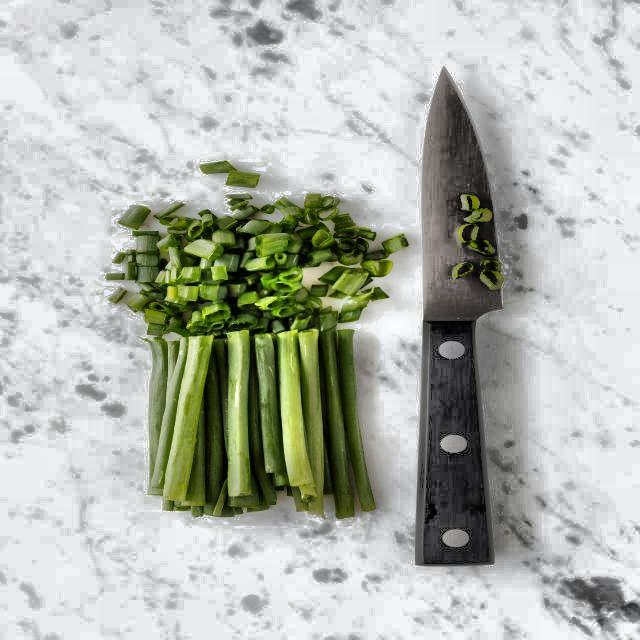knife: (414, 64, 517, 566)
